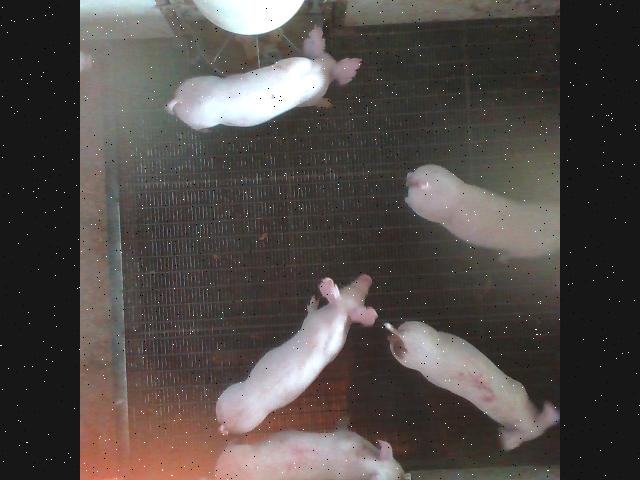pig-4: (202, 426, 405, 480)
pig-5: (386, 320, 559, 450)
